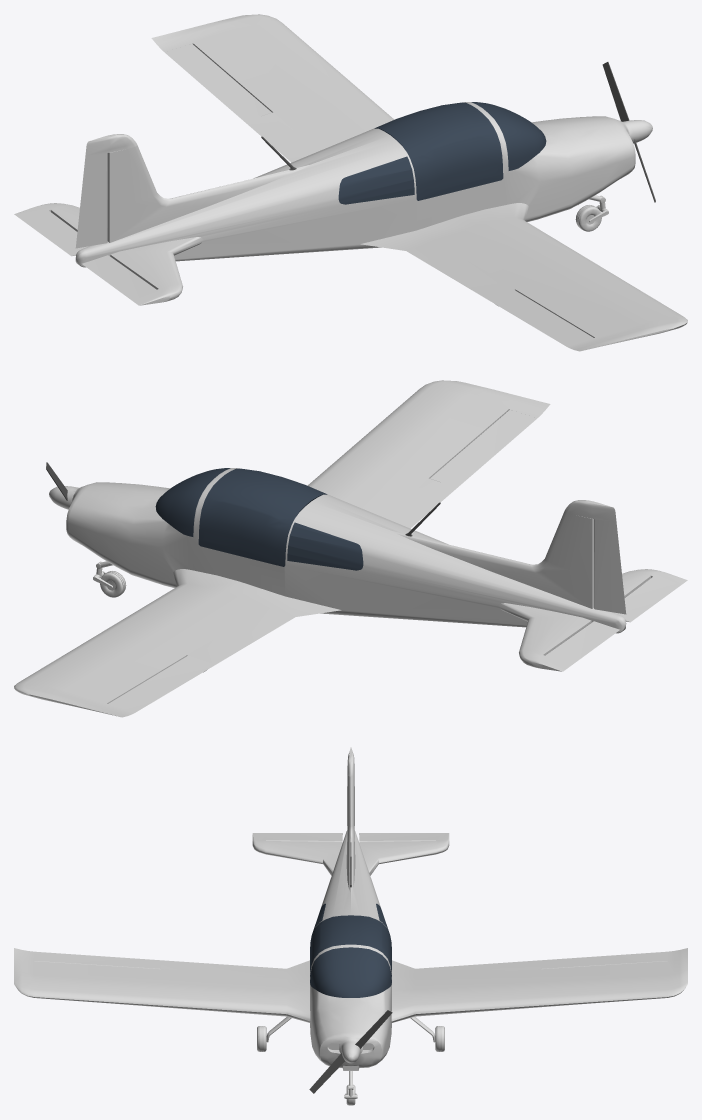
The picture shows the model from 3 angles, top to bottom: view 1: azimuth 30°, elevation 25°; view 2: azimuth 150°, elevation 25°; view 3: azimuth 270°, elevation 25°; orthographic projection. The views are drawn at different scales.
Visible parts, largest first — view 1: body, glass, spin; view 2: body, glass; view 3: body, glass, spin.
Part boxes in pixels (x1,y1,x2,y2): body: [14, 14, 687, 351]; glass: [338, 102, 546, 204]; spin: [602, 62, 655, 202]; body: [14, 380, 687, 717]; glass: [155, 468, 363, 570]; body: [14, 747, 687, 1105]; glass: [310, 903, 391, 997]; spin: [309, 1010, 392, 1093].
Bounding box in the file's own units: 1.71 × 0.5983 × 2.2.
